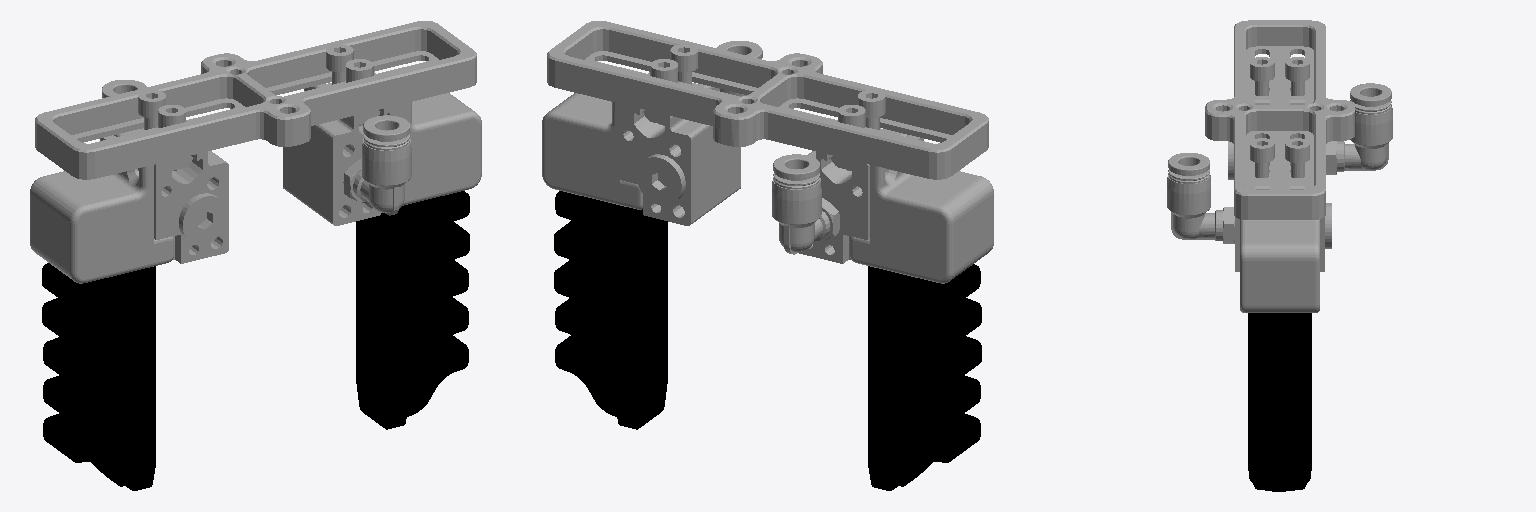
URDF robot description (rochu_2f):
<?xml version="1.0" encoding="utf-8"?>
<!-- This URDF was automatically created by SolidWorks to URDF Exporter! Originally created by [author] ([email redacted]) 
     Commit Version: 1.6.0-4-g7f85cfe  Build Version: 1.6.7995.38578
     For more information, please see http://wiki.ros.org/sw_urdf_exporter -->
<robot
  name="rochu_2f">
  <link
    name="base_link">
    <inertial>
      <origin
        xyz="3.432E-18 -9.7747E-18 -0.018941"
        rpy="0 0 0" />
      <mass
        value="0.048374" />
      <inertia
        ixx="5.4542E-06"
        ixy="-7.5872E-13"
        ixz="3.9692E-23"
        iyy="1.6226E-05"
        iyz="2.1494E-22"
        izz="1.7187E-05" />
    </inertial>
    <visual>
      <origin
        xyz="0 0 0"
        rpy="0 0 0" />
      <geometry>
        <mesh
          filename="../meshes/base_link.STL" />
      </geometry>
      <material
        name="">
        <color
          rgba="0.68627 0.68627 0.68627 1" />
      </material>
    </visual>
    <collision>
      <origin
        xyz="0 0 0"
        rpy="0 0 0" />
      <geometry>
        <mesh
          filename="../meshes/base_link.STL" />
      </geometry>
    </collision>
  </link>
  <link
    name="left_finger_link">
    <inertial>
      <origin
        xyz="-0.010437 -0.019095 -1.5305E-08"
        rpy="0 0 0" />
      <mass
        value="0.027297" />
      <inertia
        ixx="1.4479E-05"
        ixy="6.8218E-07"
        ixz="2.689E-12"
        iyy="1.7459E-06"
        iyz="7.7361E-10"
        izz="1.4856E-05" />
    </inertial>
    <visual>
      <origin
        xyz="0 0 0"
        rpy="0 0 0" />
      <geometry>
        <mesh
          filename="../meshes/left_finger_link.STL" />
      </geometry>
      <material
        name="">
        <color
          rgba="0 0 0 1" />
      </material>
    </visual>
    <collision>
      <origin
        xyz="0 0 0"
        rpy="0 0 0" />
      <geometry>
        <mesh
          filename="../meshes/left_finger_link.STL" />
      </geometry>
    </collision>
  </link>
  <joint
    name="left_finger_joint"
    type="revolute">
    <origin
      xyz="-0.034 0 -0.03755"
      rpy="1.5708 0 0" />
    <parent
      link="base_link" />
    <child
      link="left_finger_link" />
    <axis
      xyz="0 0 1" />
    <limit
      lower="-0.3725"
      upper="0.785"
      effort="0.785"
      velocity="0.785" />
  </joint>
  <link
    name="right_finger_link">
    <inertial>
      <origin
        xyz="0.010437 0.019095 -1.5305E-08"
        rpy="0 0 0" />
      <mass
        value="0.027297" />
      <inertia
        ixx="1.4479E-05"
        ixy="6.8218E-07"
        ixz="-2.689E-12"
        iyy="1.7459E-06"
        iyz="-7.7361E-10"
        izz="1.4856E-05" />
    </inertial>
    <visual>
      <origin
        xyz="0 0 0"
        rpy="0 0 0" />
      <geometry>
        <mesh
          filename="../meshes/right_finger_link.STL" />
      </geometry>
      <material
        name="">
        <color
          rgba="0 0 0 1" />
      </material>
    </visual>
    <collision>
      <origin
        xyz="0 0 0"
        rpy="0 0 0" />
      <geometry>
        <mesh
          filename="../meshes/right_finger_link.STL" />
      </geometry>
    </collision>
  </link>
  <joint
    name="right_finger_joint"
    type="revolute">
    <origin
      xyz="0.034 0 -0.03755"
      rpy="-1.5708 0 0" />
    <parent
      link="base_link" />
    <child
      link="right_finger_link" />
    <axis
      xyz="0 0 1" />
    <limit
      lower="-0.3725"
      upper="0.785"
      effort="0.785"
      velocity="0.785" />
  </joint>
</robot>

--- Render facts (derived) ---
3 views of the same robot in one strip: view 1: azimuth 30°, elevation 25°; view 2: azimuth 150°, elevation 25°; view 3: azimuth 270°, elevation 25° (orthographic).
Model rochu_2f with 3 links and 2 joints (2 revolute), rooted at base_link, posed every joint at zero.
Links seen in each view (by area): view 1: base_link, right_finger_link, left_finger_link; view 2: base_link, right_finger_link, left_finger_link; view 3: base_link, right_finger_link.
Link boxes in pixels (bbox=[...]): base_link: bbox=[30, 21, 481, 283]; right_finger_link: bbox=[356, 191, 469, 429]; left_finger_link: bbox=[42, 263, 155, 490]; base_link: bbox=[542, 21, 993, 283]; right_finger_link: bbox=[554, 191, 667, 429]; left_finger_link: bbox=[868, 264, 981, 490]; base_link: bbox=[1167, 20, 1392, 312]; right_finger_link: bbox=[1248, 313, 1311, 491].
Size in the robot's own frame: 0.1185 by 0.0635 by 0.1017 metres.
Meshes: 3 distinct files referenced, 3 mesh visuals loaded (3 binary STL).
